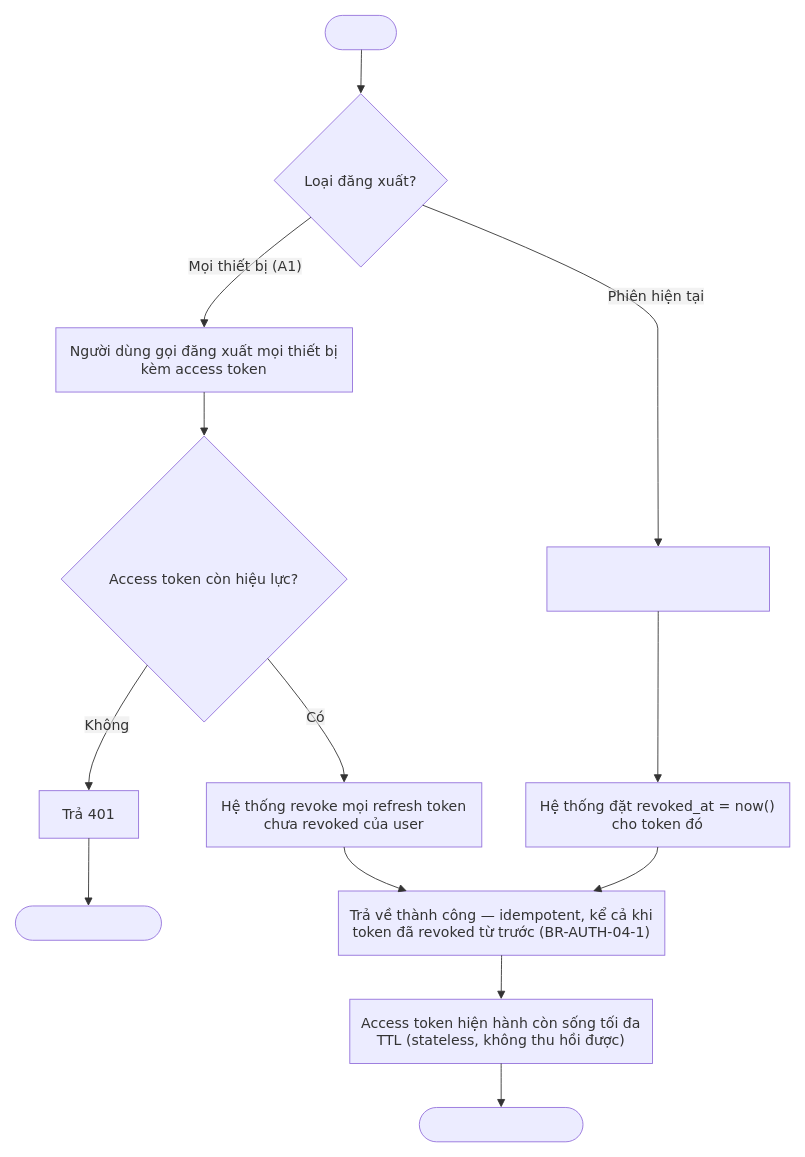
The diagram is 805 pixels wide and 1157 high, and some of its shapes have lost their labels. Each missing label, with the box of its shape:
Bắt đầu: (324, 15, 396, 50)
Kết thúc — thành công: (418, 1107, 583, 1142)
Kết thúc — thất bại: (15, 905, 161, 940)
Người dùng gọi đăng xuất kèm refresh token hiện tại: (546, 546, 770, 611)
